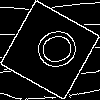O: (25, 25, 81, 76)
